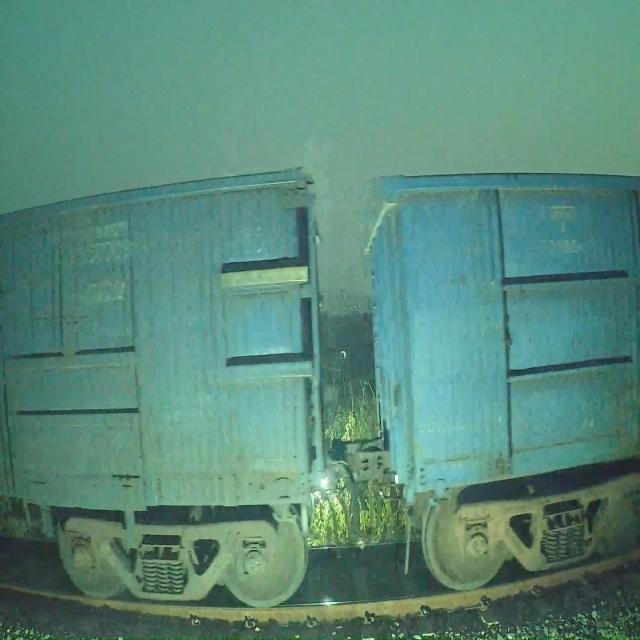WAgon-uic: (0, 165, 329, 605), (363, 175, 638, 593)
uic: (69, 233, 132, 304)
